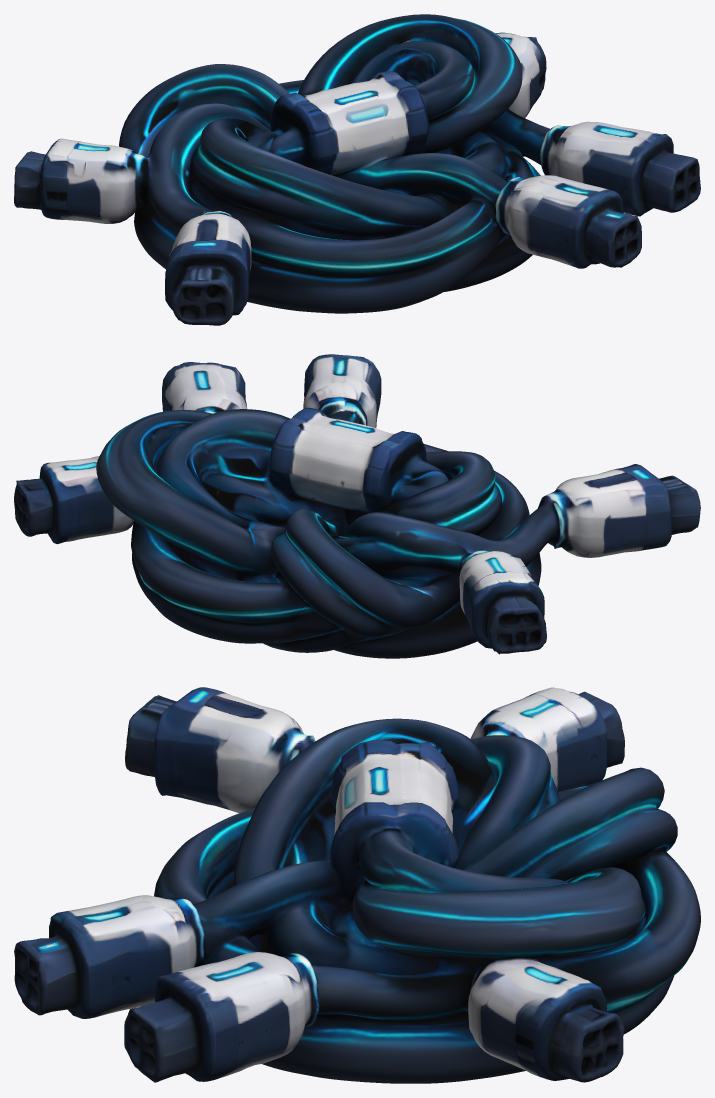
Rendered from kabel_ruwet.fbx.
3 renders of one model, top to bottom at view 1: azimuth 30°, elevation 25°; view 2: azimuth 150°, elevation 25°; view 3: azimuth 270°, elevation 25°, orthographic. The views are drawn at different scales.
Parts seen in each view (by area): view 1: model.013; view 2: model.013; view 3: model.013.
Boxes of the visible parts, x1,y1,x2,y2 form: model.013: (14,14,700,325); model.013: (14,354,700,658); model.013: (14,687,700,1083).
Size of the model in its own units: 170 by 46.86 by 144.
Materials: 1 (1 with a texture image).
